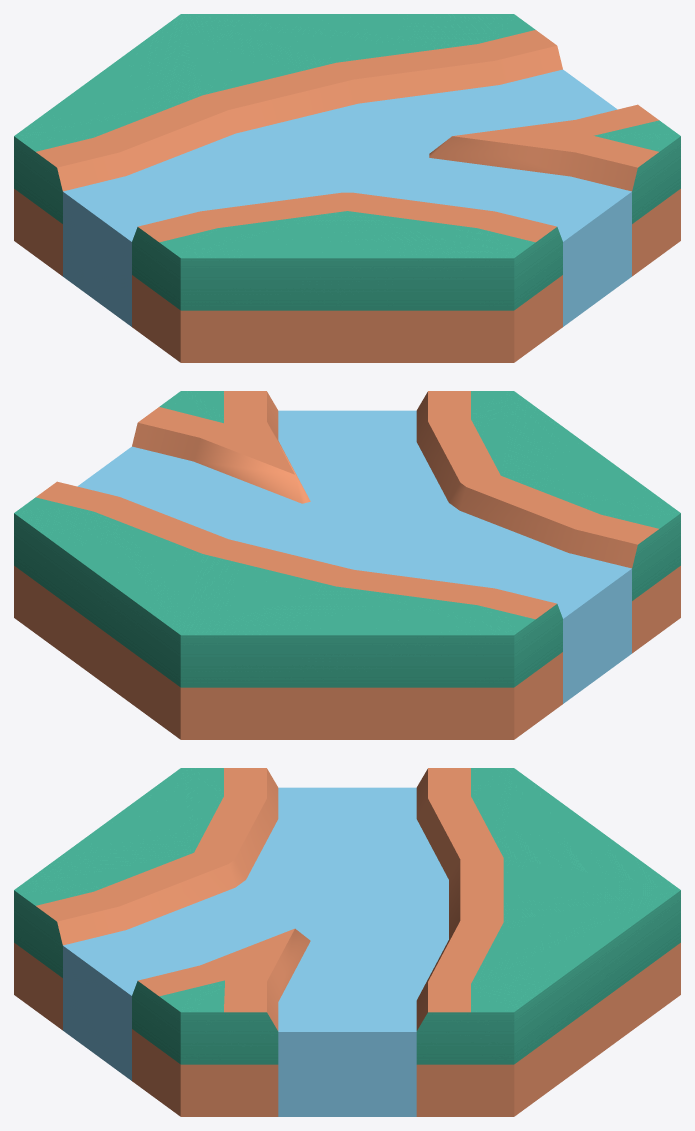
The model's file is river_intersection_c.glb.
3 renders of one model, top to bottom at view 1: azimuth 30°, elevation 25°; view 2: azimuth 150°, elevation 25°; view 3: azimuth 270°, elevation 25°, orthographic.
Visible parts, largest first — view 1: river-intersectionC; view 2: river-intersectionC; view 3: river-intersectionC.
Part boxes in pixels (x1,y1,x2,y2): river-intersectionC: (14,14,680,362); river-intersectionC: (14,391,680,739); river-intersectionC: (14,768,680,1116).
Size of the model in its own units: 1 by 0.2 by 1.15.
1 material, 1 textured.
